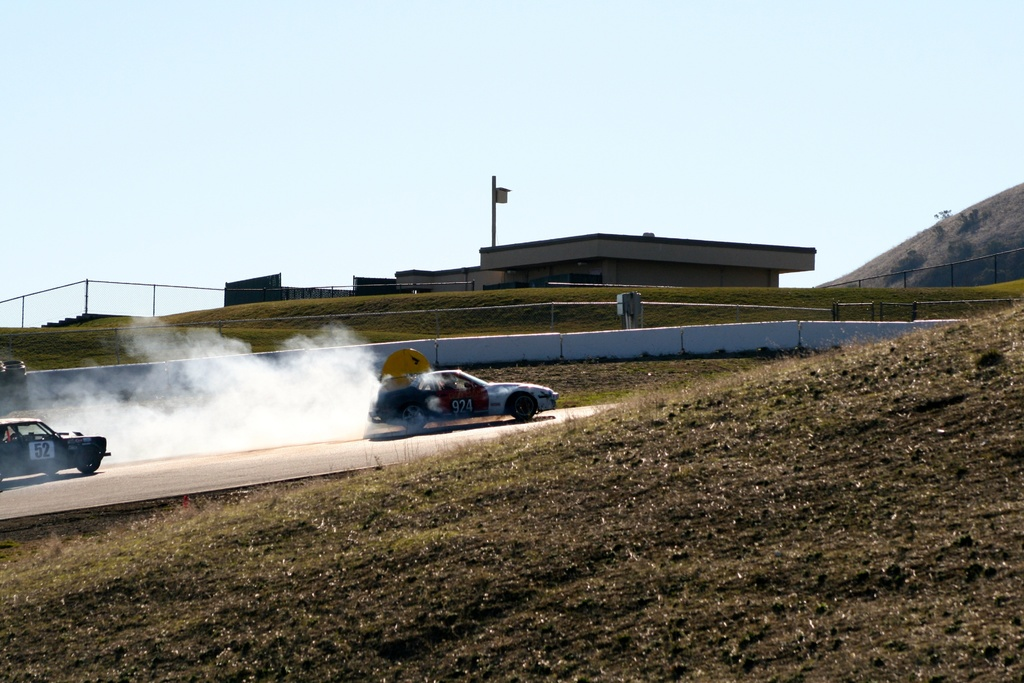Car: (368, 358, 546, 438), (0, 413, 110, 486)
